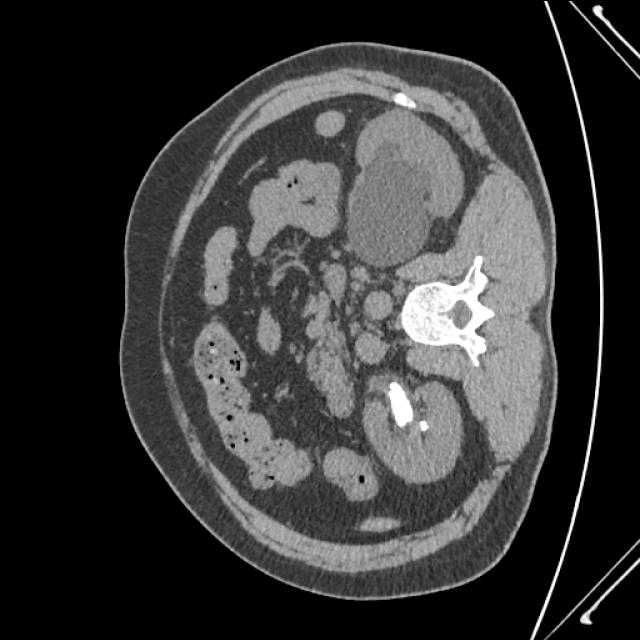kidneystone: (389, 381, 413, 426), (419, 419, 429, 431)
